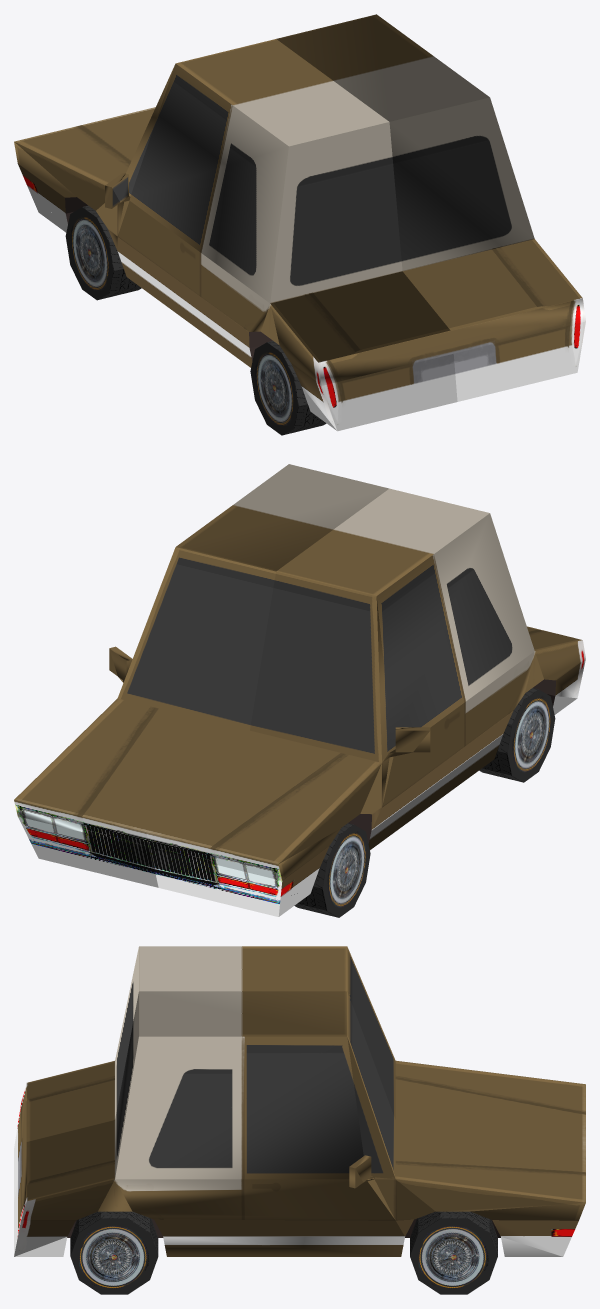
Rendered from carPimpMobile.fbx.
The picture shows the model from 3 angles, top to bottom: view 1: azimuth 30°, elevation 25°; view 2: azimuth 150°, elevation 25°; view 3: azimuth 270°, elevation 25°; orthographic projection. The views are drawn at different scales.
Parts seen in each view (by area): view 1: body, wheel_4, wheel_3; view 2: body, wheel_3, wheel_4; view 3: body, wheel, wheel_2.
Part boxes in pixels (<box>): body: <box>14,14,585,431</box>; wheel_4: <box>65,205,141,300</box>; wheel_3: <box>250,341,326,435</box>; body: <box>14,464,585,916</box>; wheel_3: <box>479,688,555,782</box>; wheel_4: <box>294,823,370,917</box>; body: <box>14,946,585,1256</box>; wheel: <box>70,1211,158,1294</box>; wheel_2: <box>410,1211,497,1294</box>.
Size of the model in its own units: 195 by 153 by 323.
1 material, 1 textured.
